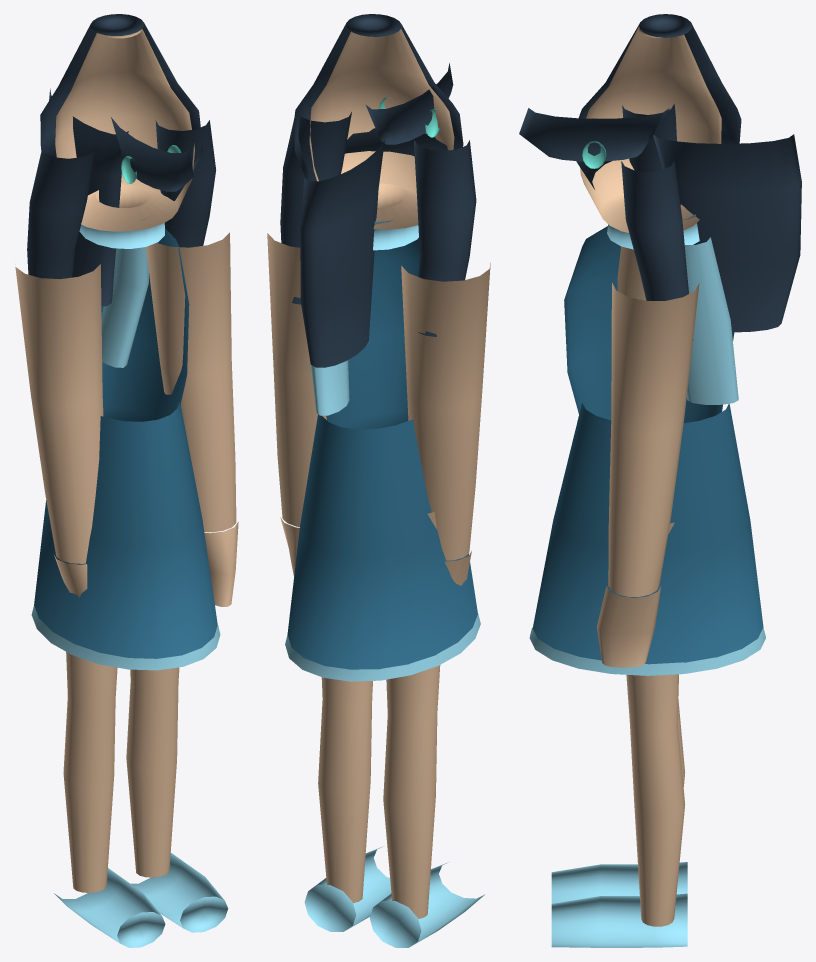
Rendered from eimi.glb.
3 renders of one model, left to right at view 1: azimuth 30°, elevation 25°; view 2: azimuth 150°, elevation 25°; view 3: azimuth 270°, elevation 25°, orthographic. The views are drawn at different scales.
Visible parts, largest first — view 1: torso, head, armLeft, armRight, legLeft, legRight; view 2: torso, head, armLeft, legLeft, legRight, armRight; view 3: torso, head, armRight, legRight, legLeft, armLeft.
Part boxes in pixels (x1=…): torso: x1=31, y1=218, x2=220, y2=670; head: x1=27, y1=14, x2=215, y2=306; armLeft: x1=15, y1=264, x2=103, y2=597; armRight: x1=146, y1=232, x2=238, y2=606; legLeft: x1=54, y1=652, x2=165, y2=947; legRight: x1=126, y1=667, x2=228, y2=932; torso: x1=285, y1=219, x2=480, y2=681; head: x1=280, y1=14, x2=476, y2=367; armLeft: x1=401, y1=263, x2=490, y2=585; legLeft: x1=369, y1=512, x2=484, y2=947; legRight: x1=304, y1=677, x2=391, y2=931; armRight: x1=267, y1=233, x2=326, y2=576; torso: x1=529, y1=208, x2=765, y2=675; head: x1=519, y1=14, x2=801, y2=340; armRight: x1=597, y1=282, x2=699, y2=667; legRight: x1=551, y1=522, x2=687, y2=947; legLeft: x1=551, y1=699, x2=687, y2=903; armLeft: x1=617, y1=246, x2=646, y2=300.
Bounding box in the file's own units: 0.4258 × 1.74 × 0.4948.
